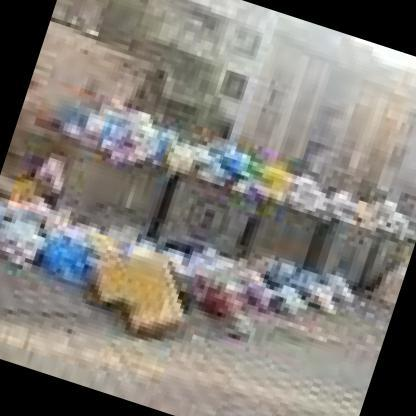Garbage: (0, 192, 197, 321), (56, 93, 213, 184), (195, 245, 336, 340), (160, 134, 305, 210), (305, 169, 415, 239)
